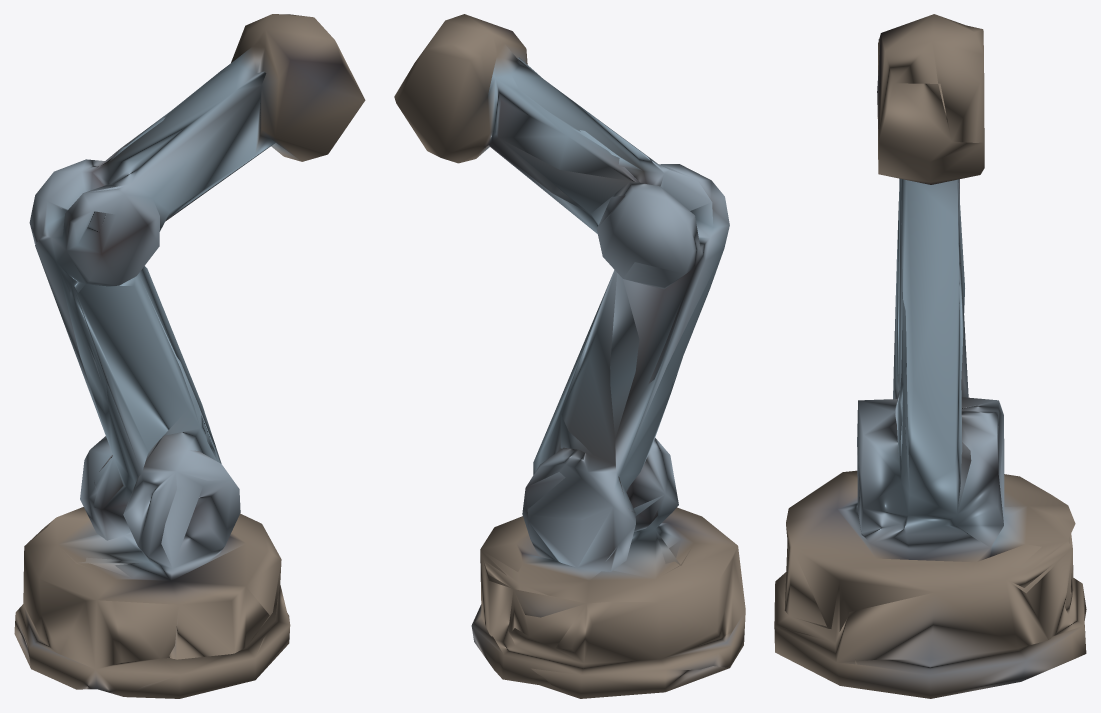
The model's file is gen3d-robot-arm-lod1.glb.
3 views of the same model, side by side, from view 1: azimuth 30°, elevation 25°; view 2: azimuth 150°, elevation 25°; view 3: azimuth 270°, elevation 25° (orthographic). The views are drawn at different scales.
Parts seen in each view (by area): view 1: part_0; view 2: part_0; view 3: part_0.
Boxes of the visible parts, left/top/right/bottom form: part_0: left=14, top=14, right=365, bottom=698; part_0: left=394, top=14, right=745, bottom=698; part_0: left=774, top=14, right=1086, bottom=698.
Size of the model in its own units: 0.5674 by 0.9935 by 0.4103.
